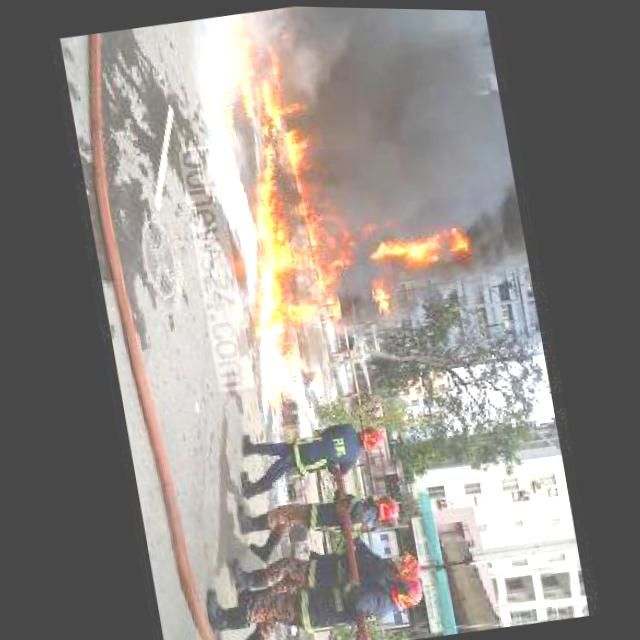helmet: (199, 6, 359, 415), (371, 222, 476, 271)
no_helmet: (292, 5, 521, 252)
